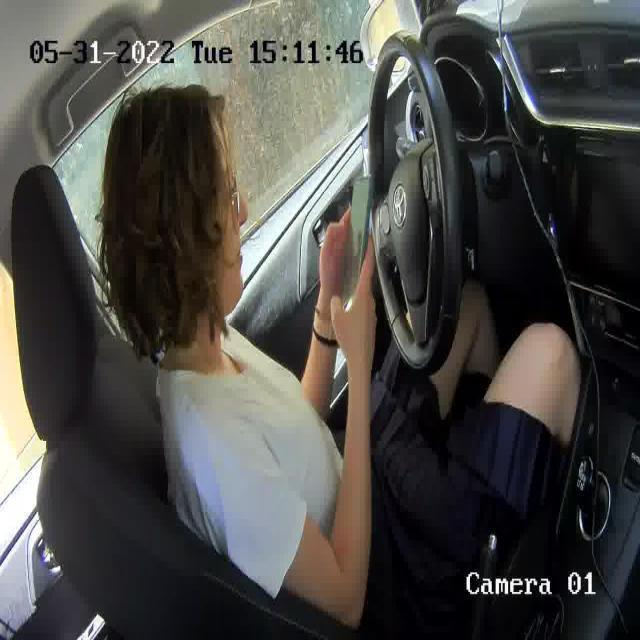Eye-Close: (225, 187, 240, 205)
Inattentive: (99, 83, 249, 338)
Normal: (227, 240, 245, 268)
